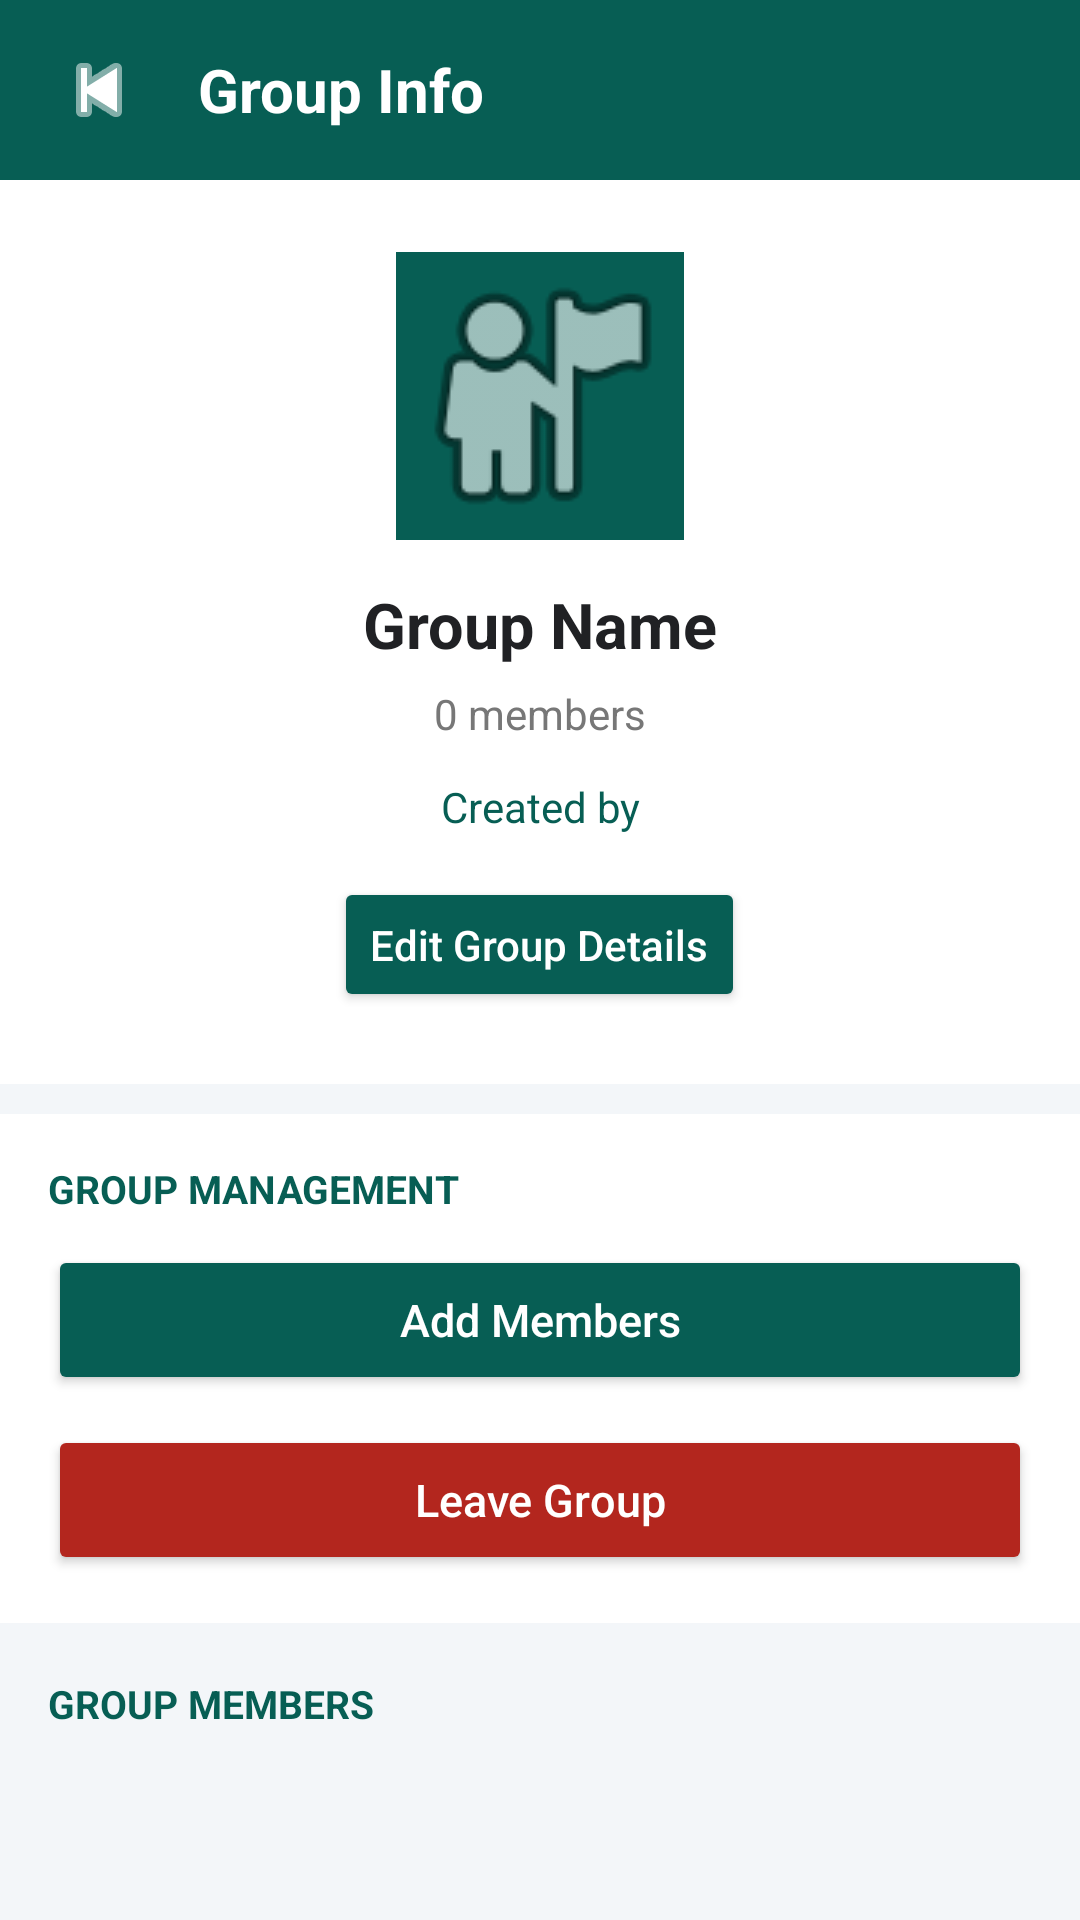

Icon click points for this 1080px x 1920px phone screenshot, format (x,y):
Back: (99,90)
